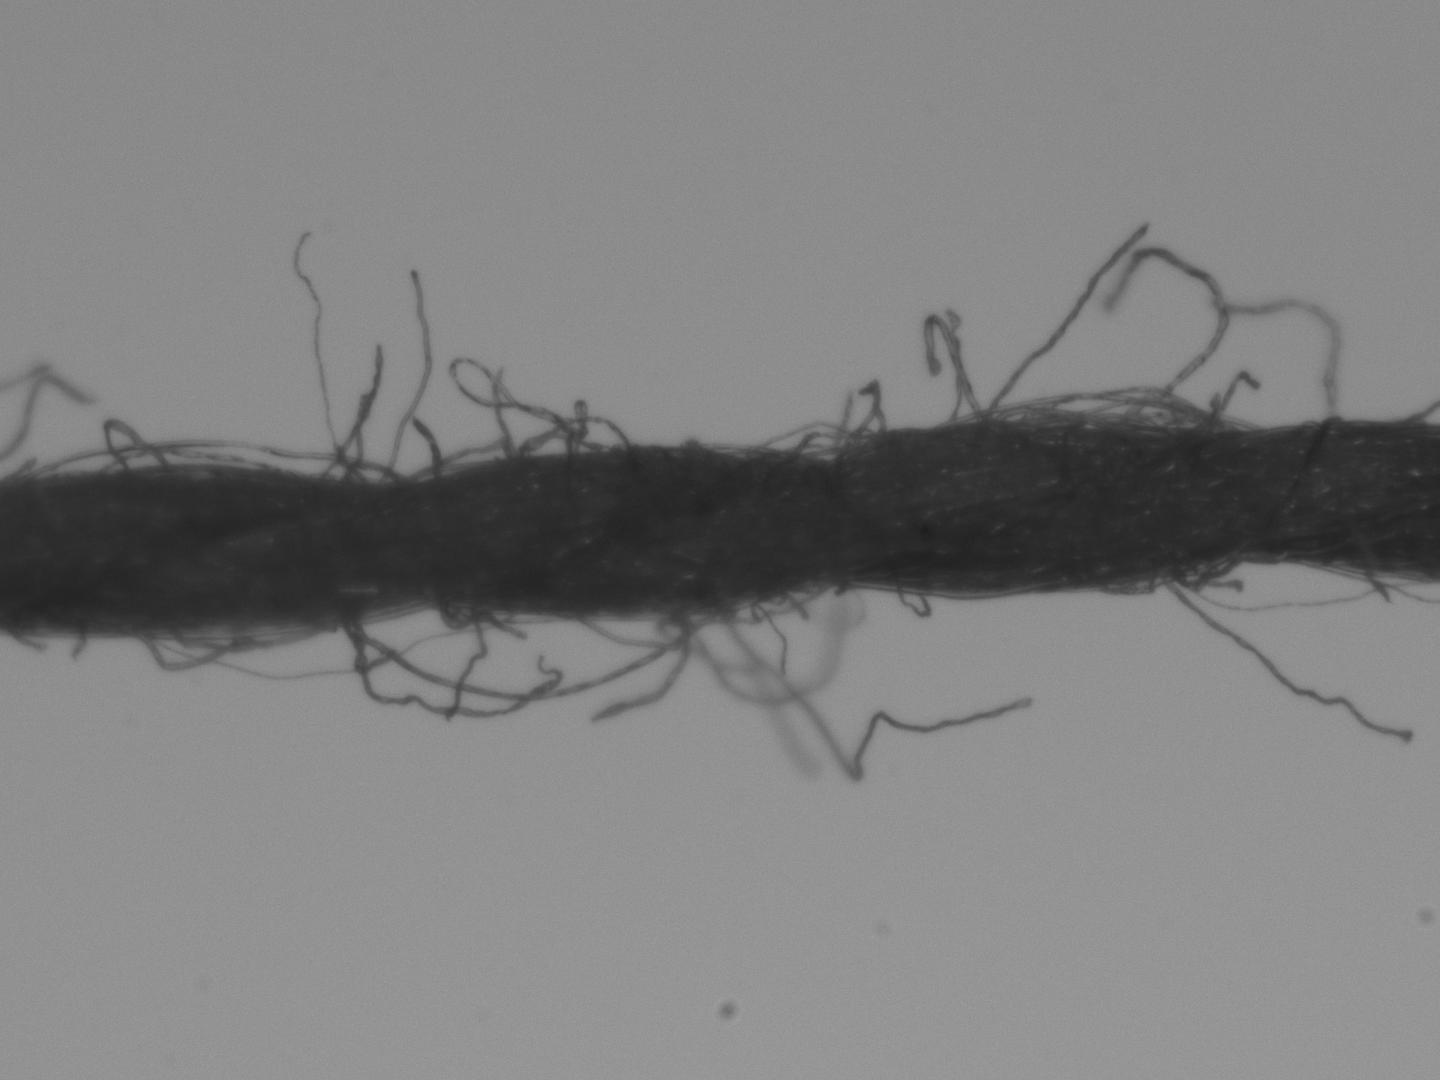loop_fiber: (336, 606, 726, 701), (42, 433, 397, 481), (974, 390, 1250, 432), (137, 622, 317, 667), (517, 407, 627, 465), (756, 421, 861, 455), (1175, 559, 1238, 592), (892, 589, 932, 621)
protruding_fiber: (1155, 583, 1407, 748), (977, 222, 1151, 425), (340, 615, 560, 718), (320, 344, 383, 473), (391, 265, 426, 478)
